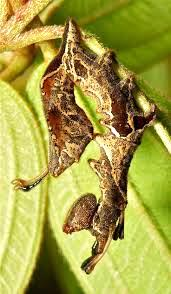Lobster Moth: (25, 12, 147, 264)
